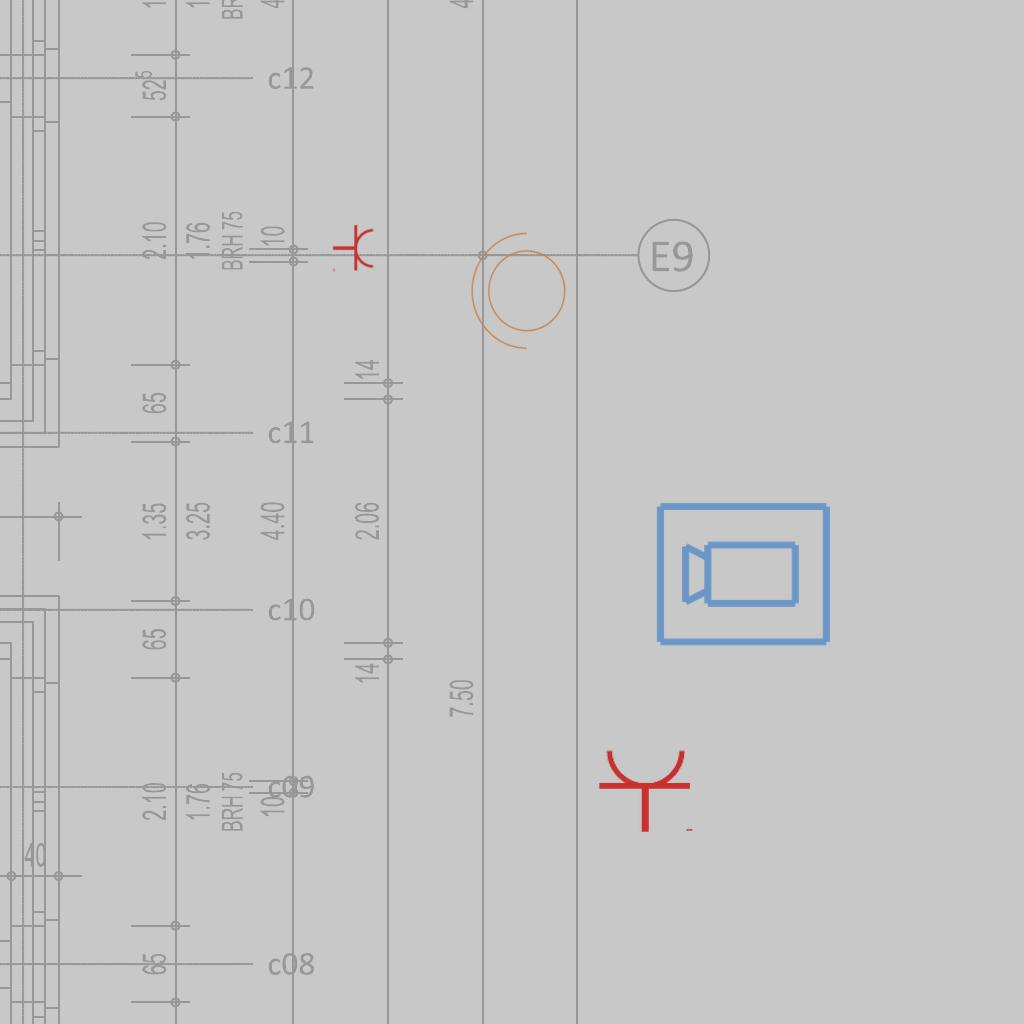KFO_Kamera_mit_Festobjektiv: (653, 496, 835, 650)
Scheinwerfer_fuer_Alarmbeleuchtung: (466, 228, 578, 360)
Schukosteckdose_einfach: (597, 747, 697, 834), (332, 224, 375, 274)
